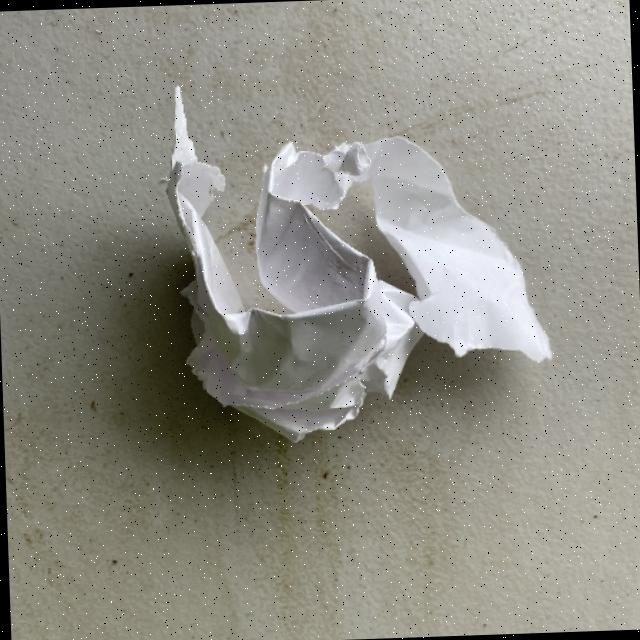paper: (158, 71, 554, 448)
